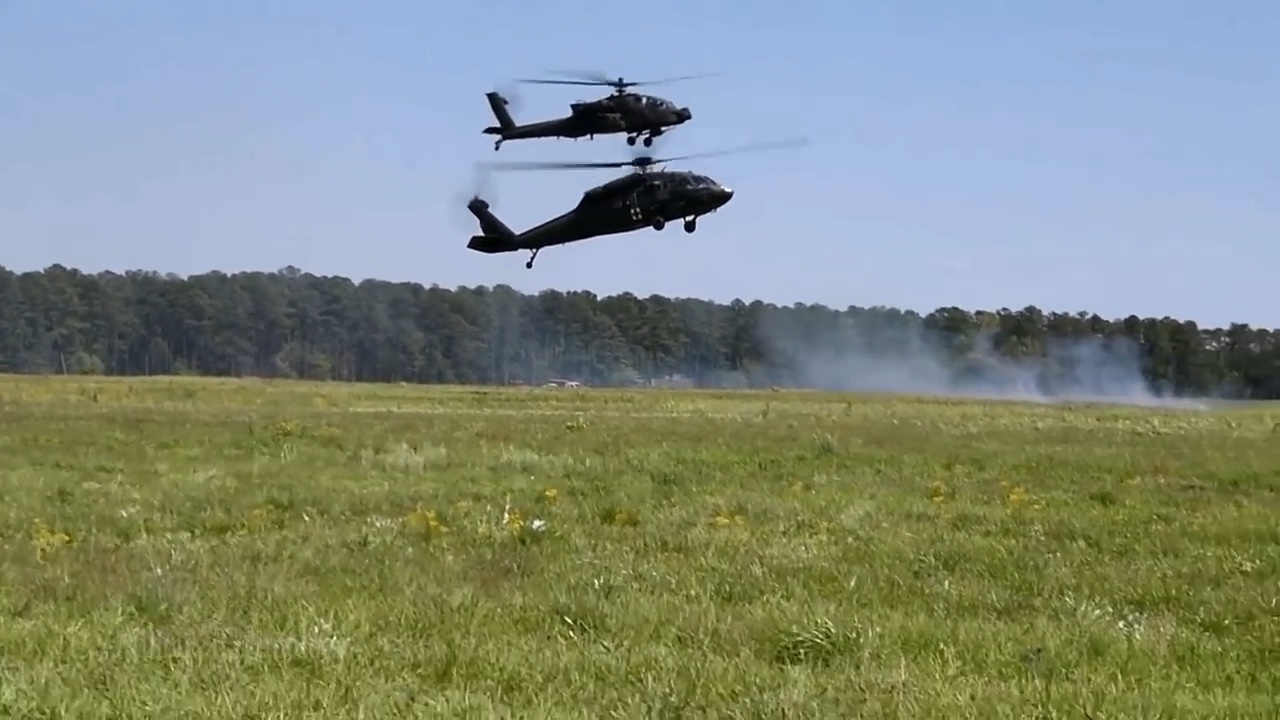ah64: (476, 68, 723, 149)
seahawk: (452, 137, 806, 271)
